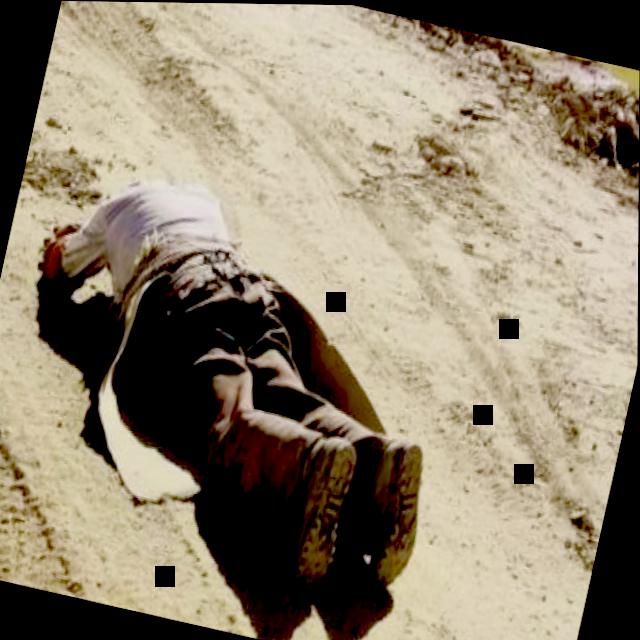Fall-Detected: (0, 131, 493, 626)
